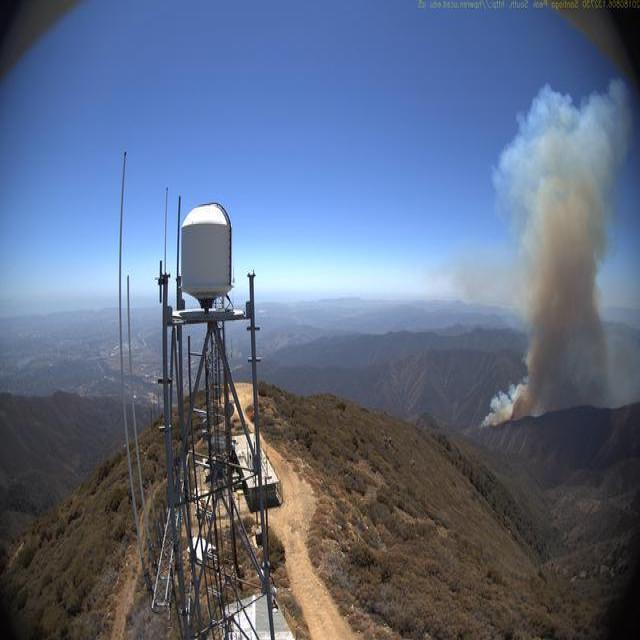Smoke: (478, 75, 639, 429)
